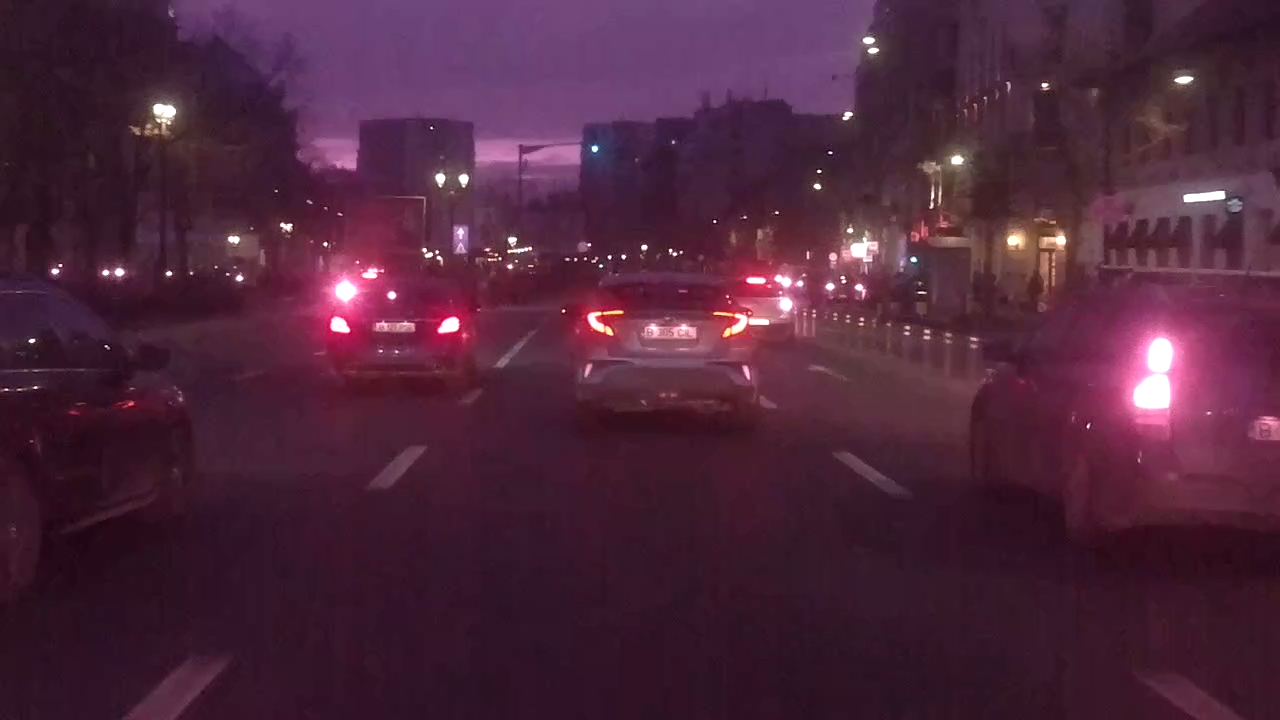license-plate: (638, 323, 700, 341)
